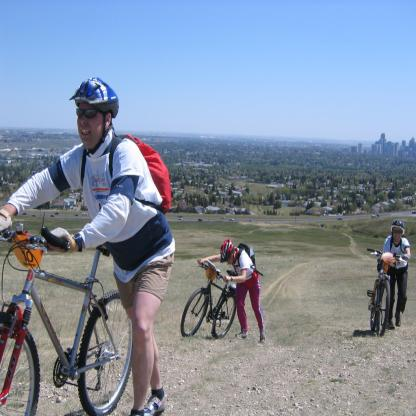Helmet: (70, 78, 114, 144), (221, 236, 236, 267), (390, 219, 405, 239)
